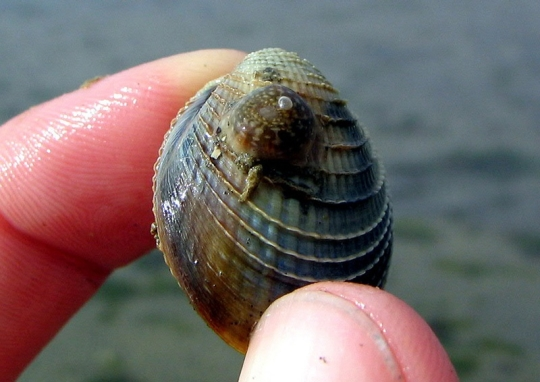cockle: (154, 46, 395, 350)
